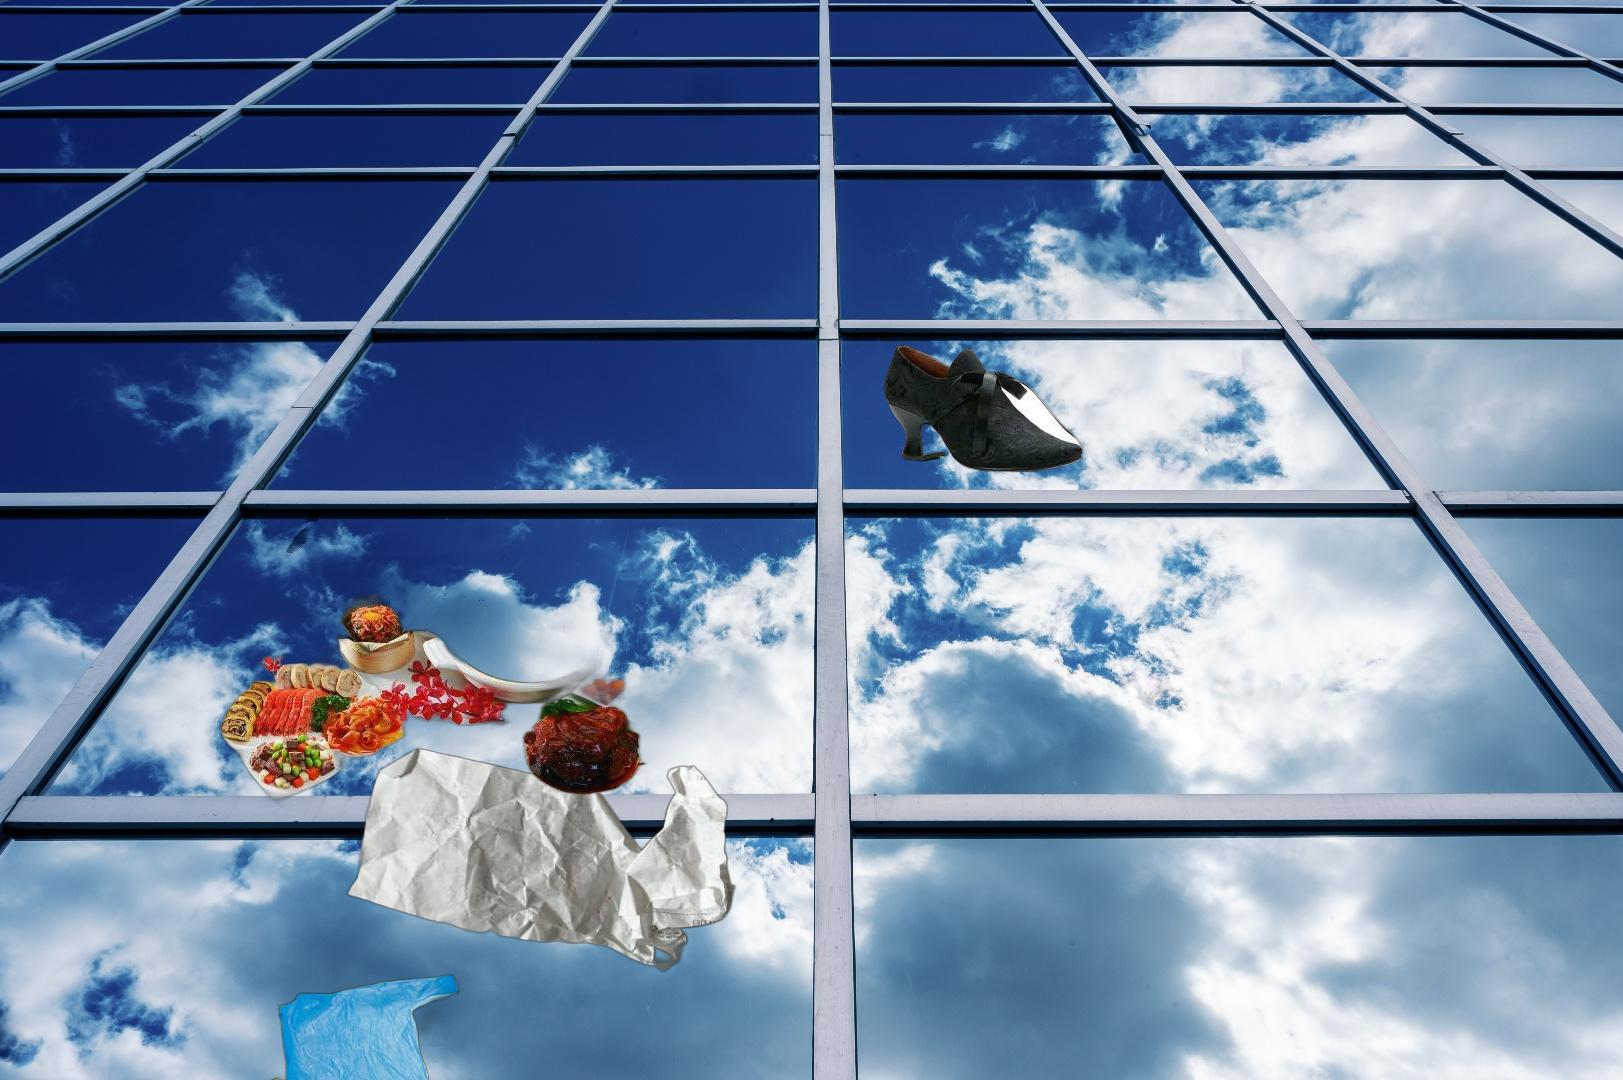biological: (201, 586, 717, 816)
paper: (340, 747, 739, 975)
plastic-bag: (205, 972, 484, 1080)
shoes: (881, 342, 1086, 475)
